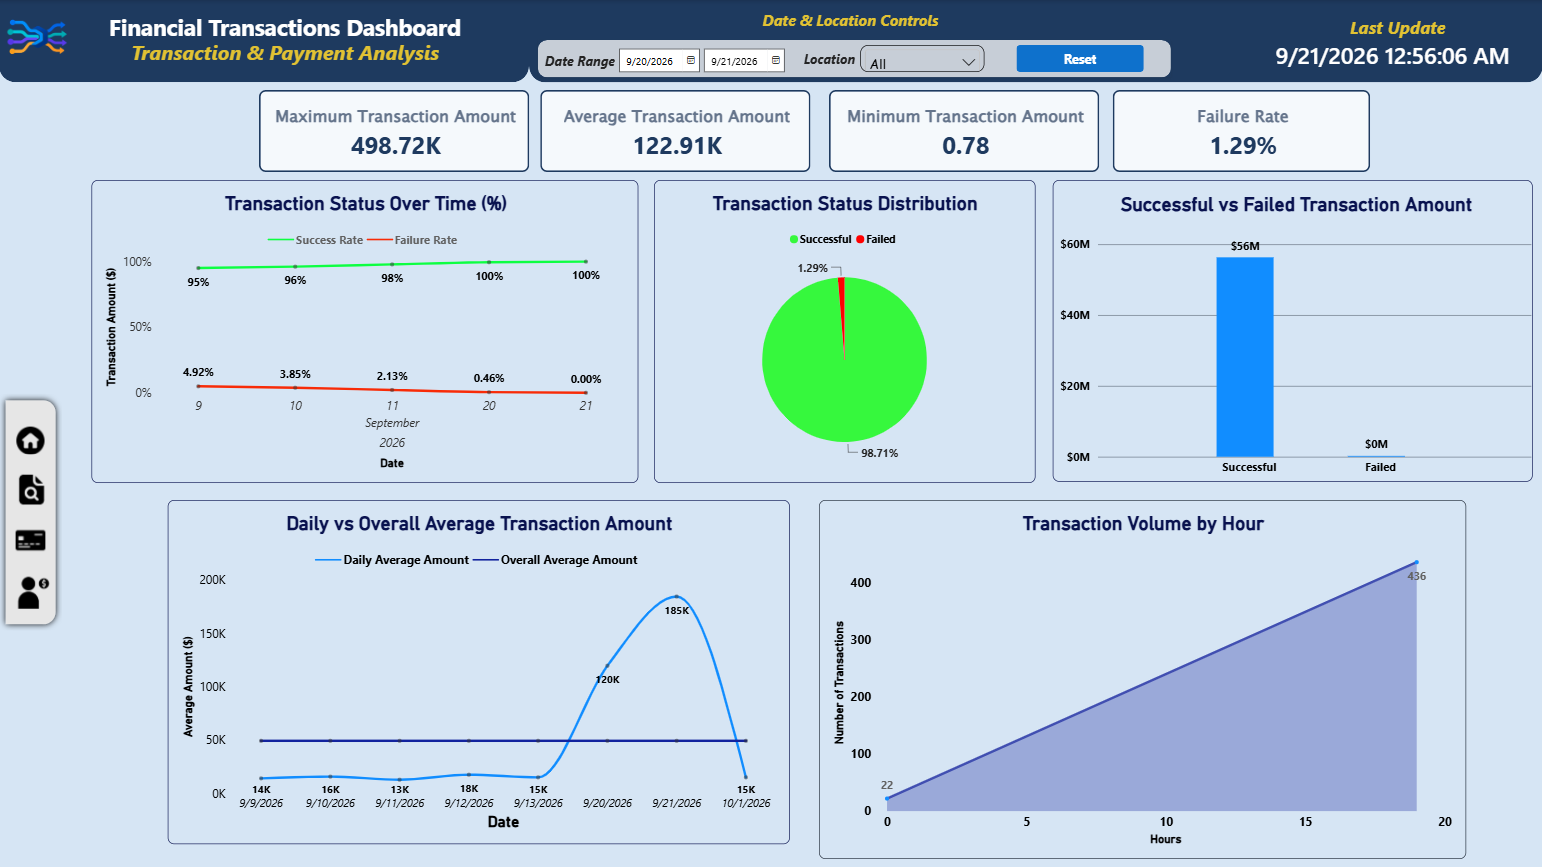

The page's visual inventory and layout, read from the dashboard file:
{"tool":"powerbi","page":{"name":"Transaction & Payment","canvas":[1920,1080],"ordinal":2},"visuals":[{"type":"shape","box":[0,0,659.1,102.4],"z":0},{"type":"shape","box":[670.3,50.3,787.6,46.5],"z":0,"group":"g1"},{"type":"shape","box":[0,489,78.5,294.8],"z":0,"group":"g2"},{"type":"slicer","fields":{"Values":["fact_transactions.timestamp"]},"box":[763.4,55.8,223.4,37.2],"z":1000,"group":"g1"},{"type":"cardVisual","fields":{"Data":["Max(fact_transactions.amount)"]},"box":[322.7,111.6,336.6,102.9],"z":1000},{"type":"image","box":[0,3.5,94.2,85.5],"z":2000},{"type":"shape","box":[674,50.3,98.7,50.3],"z":2000,"group":"g1"},{"type":"shape","box":[659.2,0,1260.8,102.7],"z":3000},{"type":"shape","box":[983.1,48.4,100.5,50.3],"z":3000,"group":"g1"},{"type":"shape","box":[136.9,3.6,437.7,59.4],"z":4000},{"type":"slicer","fields":{"Values":["dim_merchant.merchant_state"]},"box":[1070.6,55.8,154.5,33.5],"z":4000,"group":"g1"},{"type":"shape","box":[161.3,38.9,388.7,50.5],"z":5000},{"type":"actionButton","box":[1266.1,55.8,158.3,33.5],"z":5000,"group":"g1"},{"type":"cardVisual","title":"Last Update","fields":{"Data":["Min(Last_Update.Last Update)"]},"box":[1571.5,46.5,337,42.8],"z":6000},{"type":"shape","box":[1625.5,16.8,227.2,33.5],"z":7000},{"type":"shape","box":[919.8,0,277.4,50.3],"z":8000},{"type":"group","id":"g1","title":"Group 1","box":[670.3,48.4,787.6,52.1],"z":9000},{"type":"cardVisual","fields":{"Data":["daily_status_summary.Failure Rate"]},"box":[1384.9,111.6,320.9,102.9],"z":10000},{"type":"group","id":"g2","title":"Group 2","box":[0,489,79.3,294.8],"z":11000},{"type":"lineChart","title":"Transaction Status Over Time (%)","fields":{"Category":["daily_status_summary.transaction_date.Variation.Date Hierarchy.Year","daily_status_summary.transaction_date.Variation.Date Hierarchy.Month","daily_status_summary.transaction_date.Variation.Date Hierarchy.Day"],"Y":["daily_status_summary.Success Rate","daily_status_summary.Failure Rate"]},"box":[114.7,223.5,680.3,377.1],"z":12000},{"type":"pieChart","title":"Transaction Status Distribution","fields":{"Category":["Transaction Status Distribution.Status"],"Y":["Sum(Transaction Status Distribution.Transactions)"]},"box":[814.4,223.5,474.3,377.1],"z":13000},{"type":"clusteredColumnChart","title":"Successful vs Failed Transaction Amount","fields":{"Category":["fact_transactions.Transaction Status"],"Y":["Sum(fact_transactions.amount)"]},"box":[1310.1,223.5,596.7,375.1],"z":14000},{"type":"lineChart","title":"Transaction Volume by Hour","fields":{"Category":["fact_transactions.transaction_hour"],"Y":["CountNonNull(fact_transactions.transaction_id)"]},"box":[1020.5,622,805.1,446.5],"z":15000},{"type":"cardVisual","fields":{"Data":["Avg(fact_transactions.amount)"]},"box":[673.3,111.6,336.6,102.9],"z":16000},{"type":"actionButton","box":[0.7,514.1,78.3,66.3],"z":16000,"group":"g2"},{"type":"cardVisual","fields":{"Data":["Min(fact_transactions.amount)"]},"box":[1032.6,111.6,336.6,102.9],"z":17000},{"type":"actionButton","box":[11.1,577,57.4,61.1],"z":17000,"group":"g2"},{"type":"lineChart","title":"Daily vs Overall Average Transaction Amount","fields":{"Category":["daily_amount_summary.transaction_date"],"Y":["daily_amount_summary.Daily Average Amount","daily_amount_summary.Overall Average Amount"]},"box":[209.9,622,773.6,427.6],"z":18000},{"type":"actionButton","box":[5,634.2,69.6,75.1],"z":18000,"group":"g2"},{"type":"actionButton","box":[8,700.5,71.2,71.5],"z":19000,"group":"g2"}]}

Visuals, with their boxes in screenshot pixels (x1, y1, x2, y2), scaled from the page's 1920x1080 canvas onto the 1542x867 screenshot:
shape: (x1=0, y1=0, x2=529, y2=82)
shape: (x1=538, y1=40, x2=1171, y2=78)
shape: (x1=0, y1=393, x2=63, y2=629)
slicer - fact_transactions.timestamp: (x1=613, y1=45, x2=793, y2=75)
cardVisual - Max(fact_transactions.amount): (x1=259, y1=90, x2=530, y2=172)
image: (x1=0, y1=3, x2=76, y2=71)
shape: (x1=541, y1=40, x2=621, y2=81)
shape: (x1=529, y1=0, x2=1541, y2=82)
shape: (x1=790, y1=39, x2=870, y2=79)
shape: (x1=110, y1=3, x2=461, y2=51)
slicer - dim_merchant.merchant_state: (x1=860, y1=45, x2=984, y2=72)
shape: (x1=130, y1=31, x2=442, y2=72)
actionButton: (x1=1017, y1=45, x2=1144, y2=72)
"Last Update" cardVisual: (x1=1262, y1=37, x2=1533, y2=72)
shape: (x1=1305, y1=13, x2=1488, y2=40)
shape: (x1=739, y1=0, x2=962, y2=40)
"Group 1" group: (x1=538, y1=39, x2=1171, y2=81)
cardVisual - daily_status_summary.Failure Rate: (x1=1112, y1=90, x2=1370, y2=172)
"Group 2" group: (x1=0, y1=393, x2=64, y2=629)
"Transaction Status Over Time (%)" lineChart: (x1=92, y1=179, x2=638, y2=482)
"Transaction Status Distribution" pieChart: (x1=654, y1=179, x2=1035, y2=482)
"Successful vs Failed Transaction Amount" clusteredColumnChart: (x1=1052, y1=179, x2=1531, y2=481)
"Transaction Volume by Hour" lineChart: (x1=820, y1=499, x2=1466, y2=858)
cardVisual - Avg(fact_transactions.amount): (x1=541, y1=90, x2=811, y2=172)
actionButton: (x1=1, y1=413, x2=63, y2=466)
cardVisual - Min(fact_transactions.amount): (x1=829, y1=90, x2=1100, y2=172)
actionButton: (x1=9, y1=463, x2=55, y2=512)
"Daily vs Overall Average Transaction Amount" lineChart: (x1=169, y1=499, x2=790, y2=843)
actionButton: (x1=4, y1=509, x2=60, y2=569)
actionButton: (x1=6, y1=562, x2=64, y2=620)
